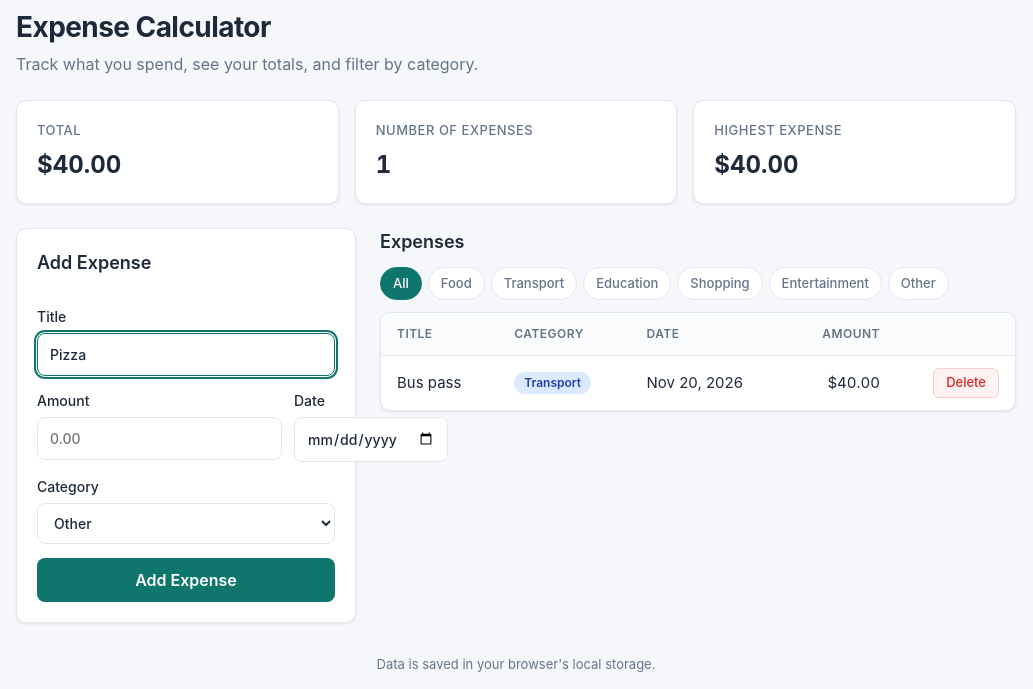
Test: App integration › filters expenses by category
Earlier steps of the test are not shown.
Step 1. Type "18" into the number field labelled "Amount" → (160, 438), box top-left (37, 416), bottom-right (282, 460)
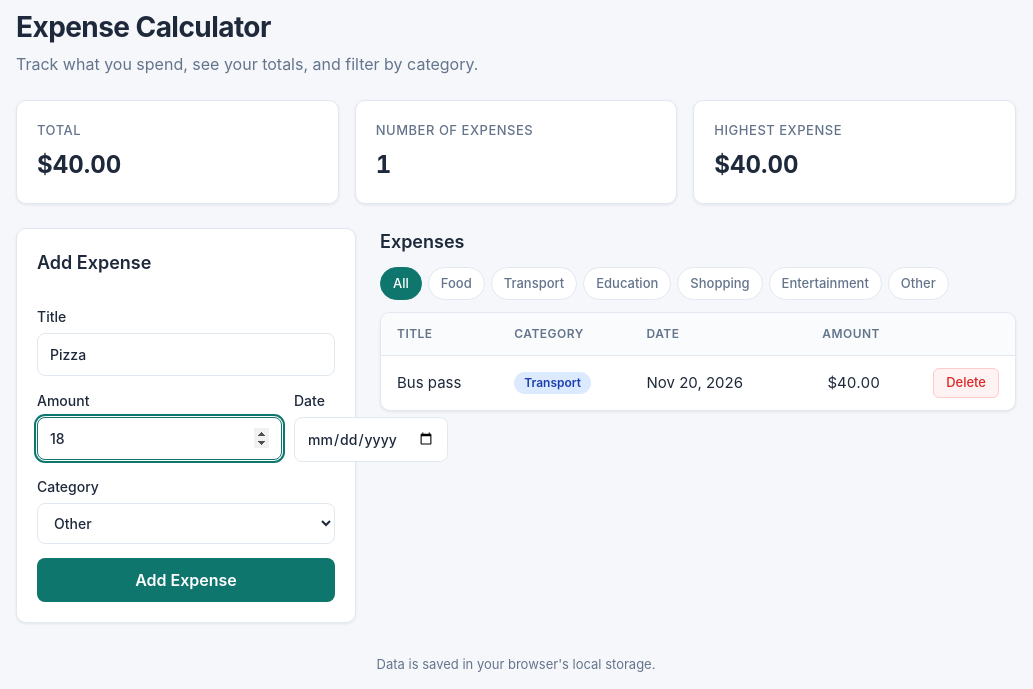
Step 2. Select "Food" in the dropdown labelled "Category" → (186, 523), box top-left (37, 502), bottom-right (335, 544)
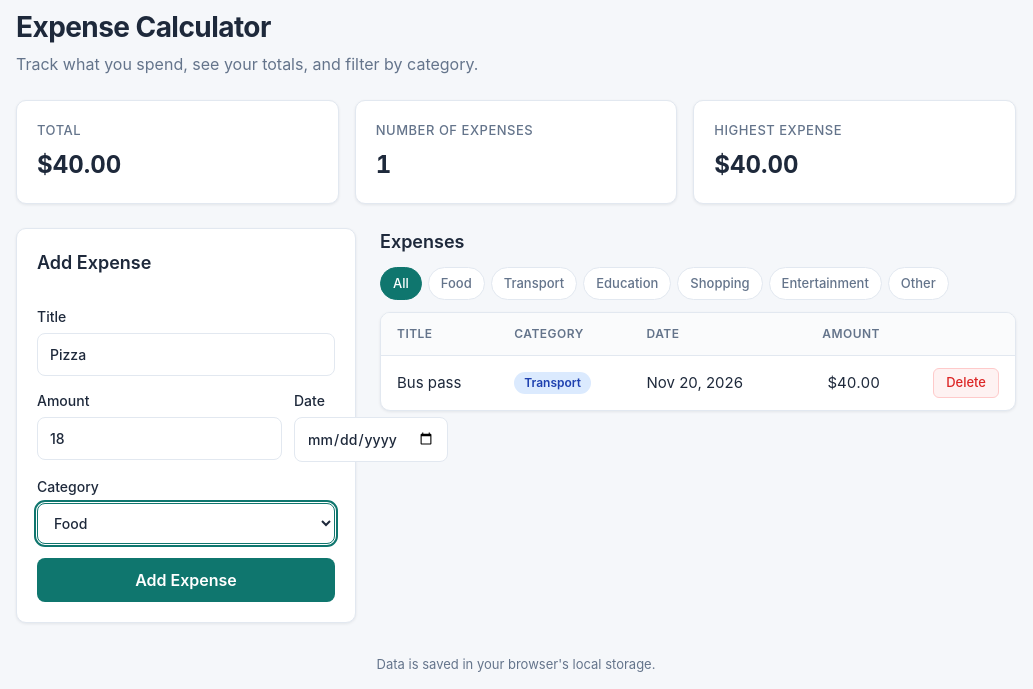
Step 3. Type "2026-11-20" into the date field labelled "Date" → (371, 439), box top-left (294, 416), bottom-right (448, 462)
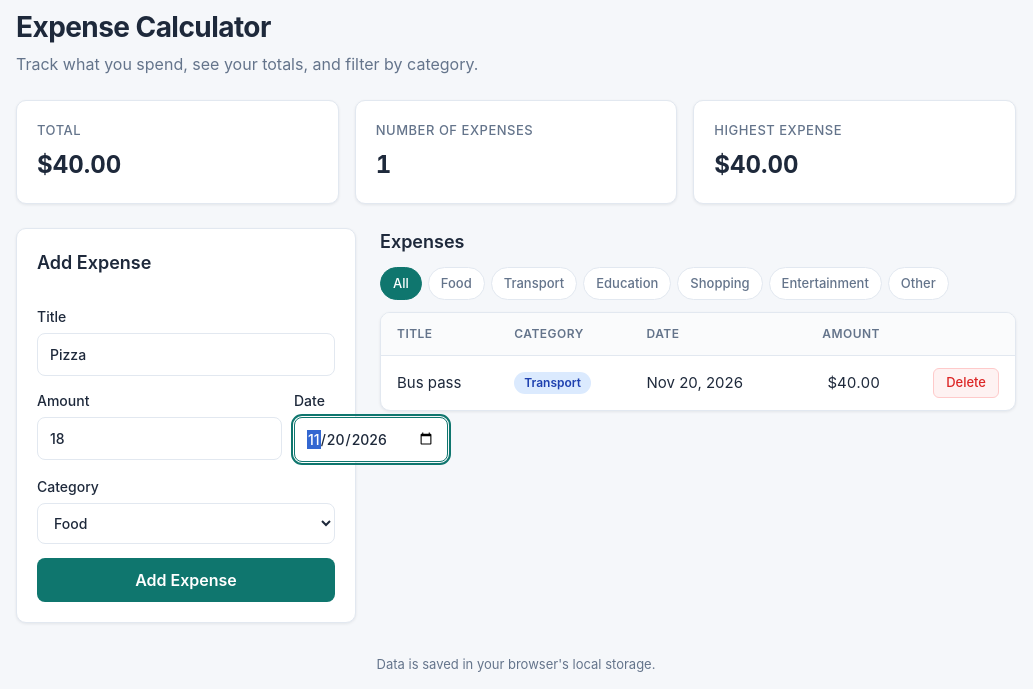
Step 4. Click the button "Add Expense" → click(186, 580), box top-left (37, 558), bottom-right (335, 602)
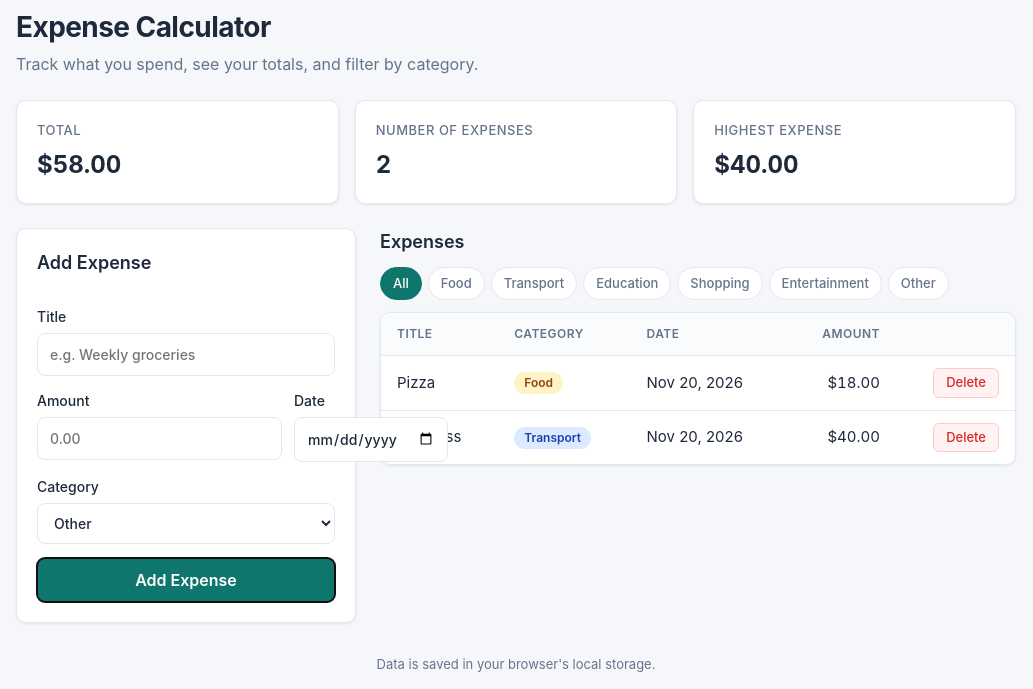
Step 5. Click the button "Food" → click(456, 283), box top-left (428, 266), bottom-right (485, 300)
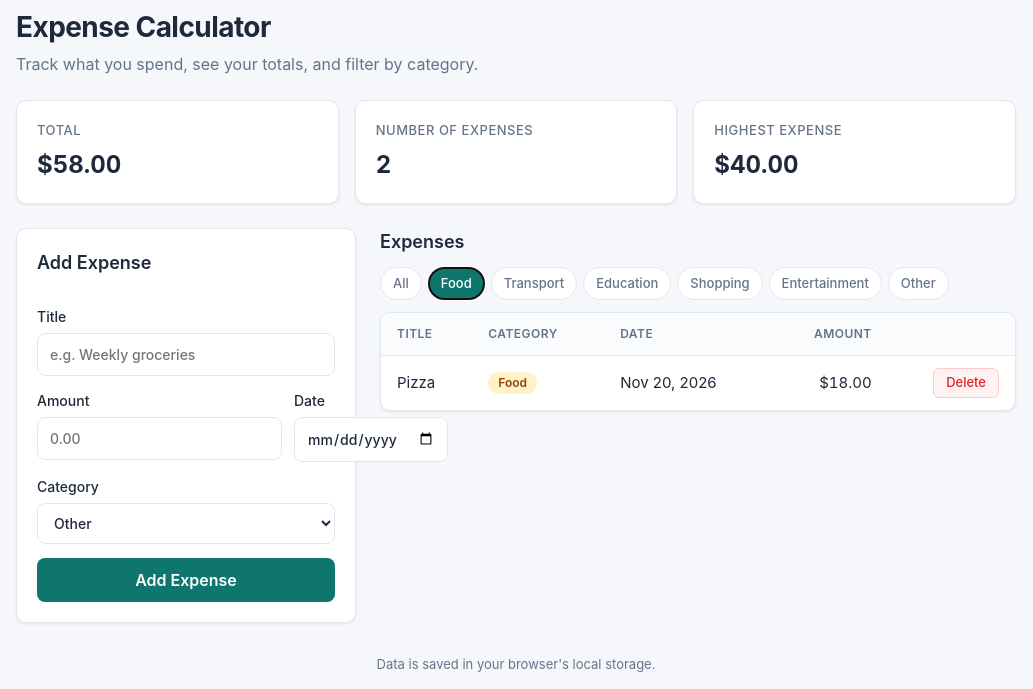
expect the text "Pizza" is shown: met, box top-left (381, 356), bottom-right (472, 410)
expect the text "Bus pass" is gone: met
Step 6. Click the button "All" → click(401, 283), box top-left (380, 266), bottom-right (422, 300)
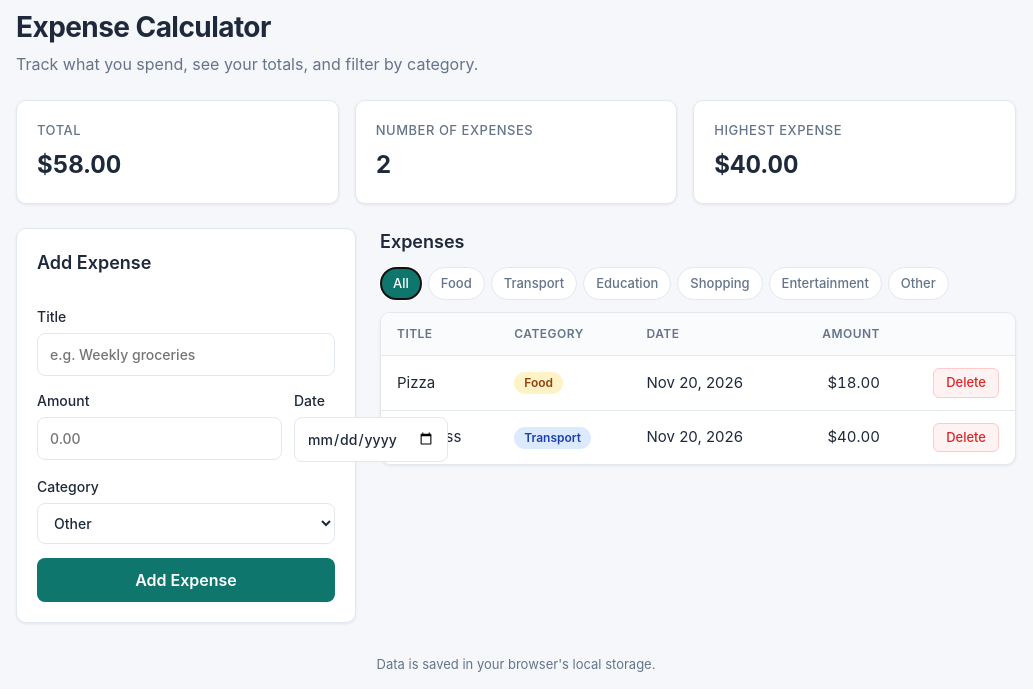
expect the text "Pizza" is shown: met, box top-left (381, 356), bottom-right (498, 410)
expect the text "Bus pass" is shown: met, box top-left (381, 410), bottom-right (498, 464)
